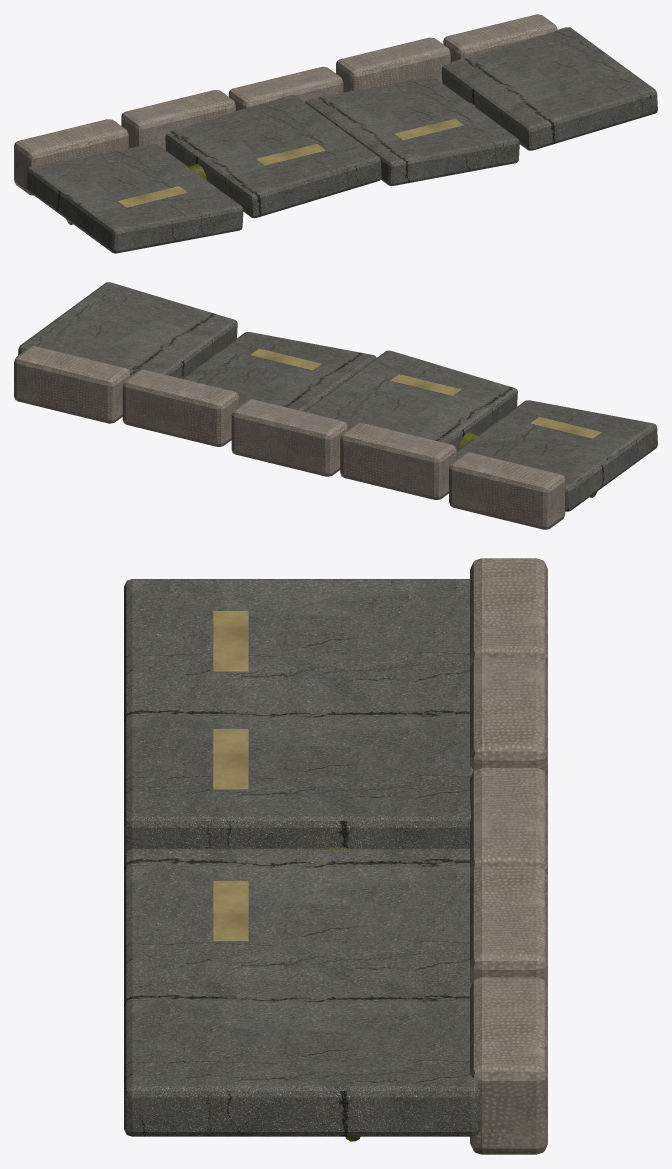
Rendered from f3_heaved_asphalt.glb.
3 views of the same model, one above another, from view 1: azimuth 30°, elevation 25°; view 2: azimuth 150°, elevation 25°; view 3: azimuth 270°, elevation 25° (orthographic). The views are drawn at different scales.
Visible parts, largest first — view 1: f3_broken_asphalt_surface, f3_weathered_concrete_surface, f3_faded_safety_ochre_surface; view 2: f3_broken_asphalt_surface, f3_weathered_concrete_surface, f3_faded_safety_ochre_surface; view 3: f3_broken_asphalt_surface, f3_weathered_concrete_surface, f3_faded_safety_ochre_surface.
Boxes of the visible parts, x1=… form: f3_broken_asphalt_surface: x1=26, y1=27, x2=657, y2=253; f3_weathered_concrete_surface: x1=14, y1=14, x2=557, y2=195; f3_faded_safety_ochre_surface: x1=117, y1=118, x2=463, y2=207; f3_broken_asphalt_surface: x1=18, y1=282, x2=657, y2=511; f3_weathered_concrete_surface: x1=14, y1=346, x2=565, y2=529; f3_faded_safety_ochre_surface: x1=250, y1=348, x2=601, y2=438; f3_broken_asphalt_surface: x1=124, y1=579, x2=480, y2=1136; f3_weathered_concrete_surface: x1=470, y1=558, x2=547, y2=1154; f3_faded_safety_ochre_surface: x1=213, y1=611, x2=248, y2=941.
Size of the model in its own units: 3.71 by 0.3324 by 1.25.
Materials: 4 (4 with a texture image).
